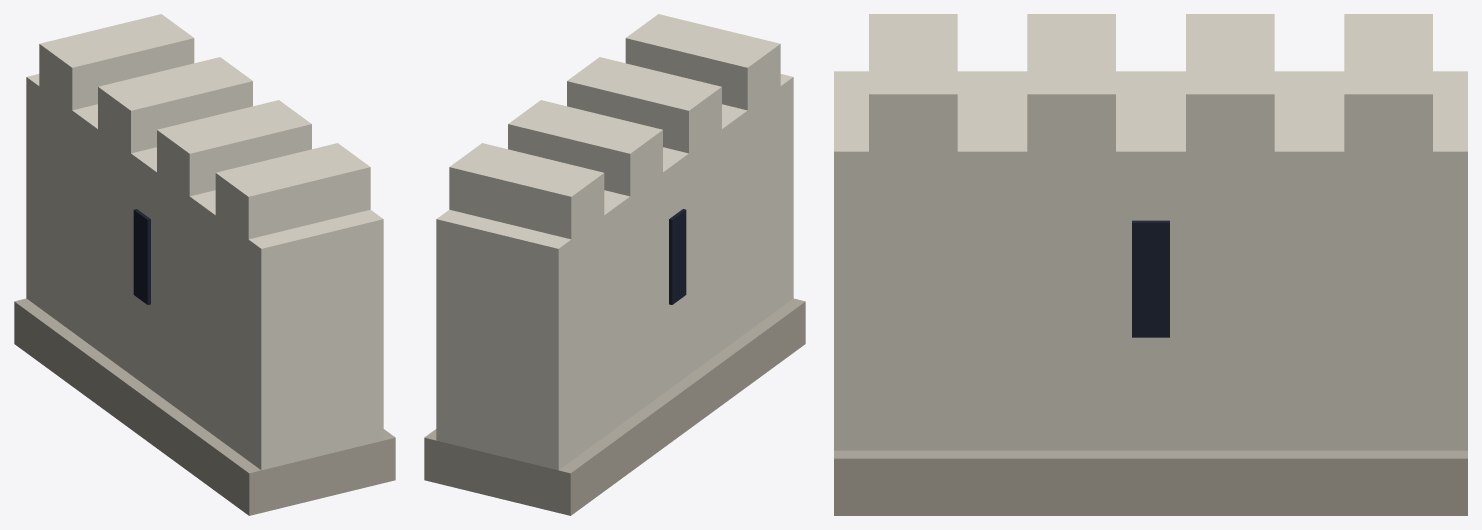
File: FortifiedFence1-lvl1-Straight.fbx
The picture shows the model from 3 angles, left to right: view 1: azimuth 30°, elevation 25°; view 2: azimuth 150°, elevation 25°; view 3: azimuth 270°, elevation 25°; orthographic projection. The views are drawn at different scales.
Parts seen in each view (by area): view 1: FortifiedFence1-lvl1-Straight; view 2: FortifiedFence1-lvl1-Straight; view 3: FortifiedFence1-lvl1-Straight.
Part boxes in pixels (bbox=[...]): FortifiedFence1-lvl1-Straight: bbox=[14, 14, 395, 515]; FortifiedFence1-lvl1-Straight: bbox=[424, 14, 805, 515]; FortifiedFence1-lvl1-Straight: bbox=[834, 14, 1467, 515].
Bounding box in the file's own units: 0.36 × 0.72 × 1.
